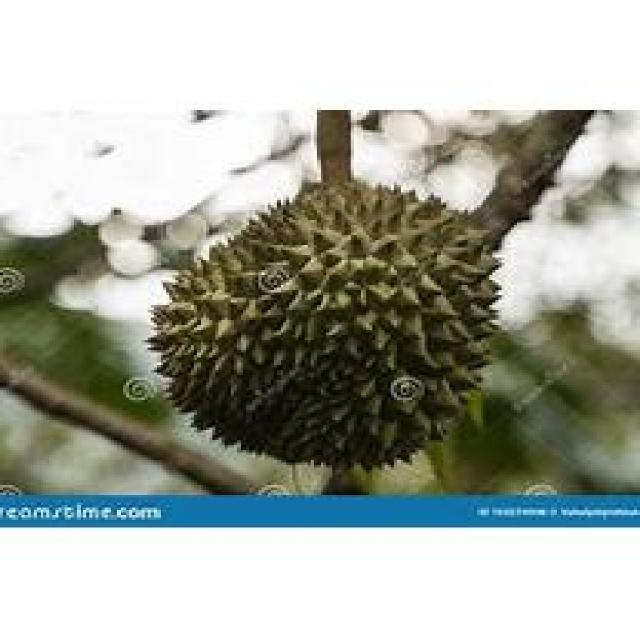fruit: (123, 113, 539, 495)
